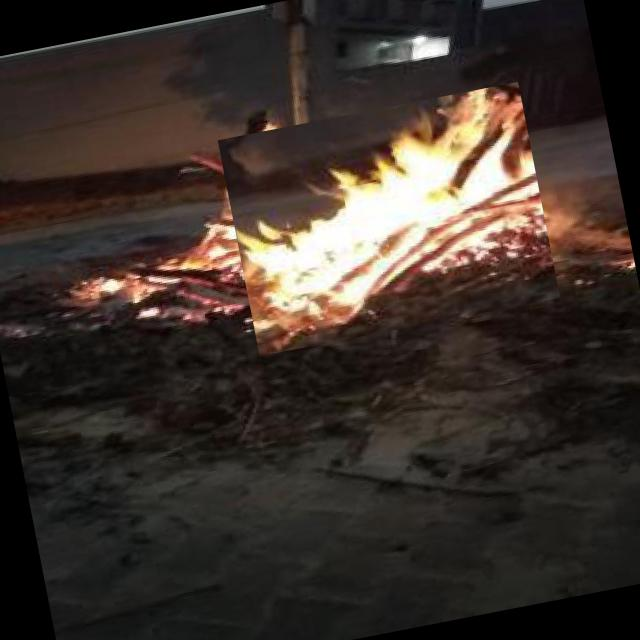fire: (218, 82, 560, 356)
